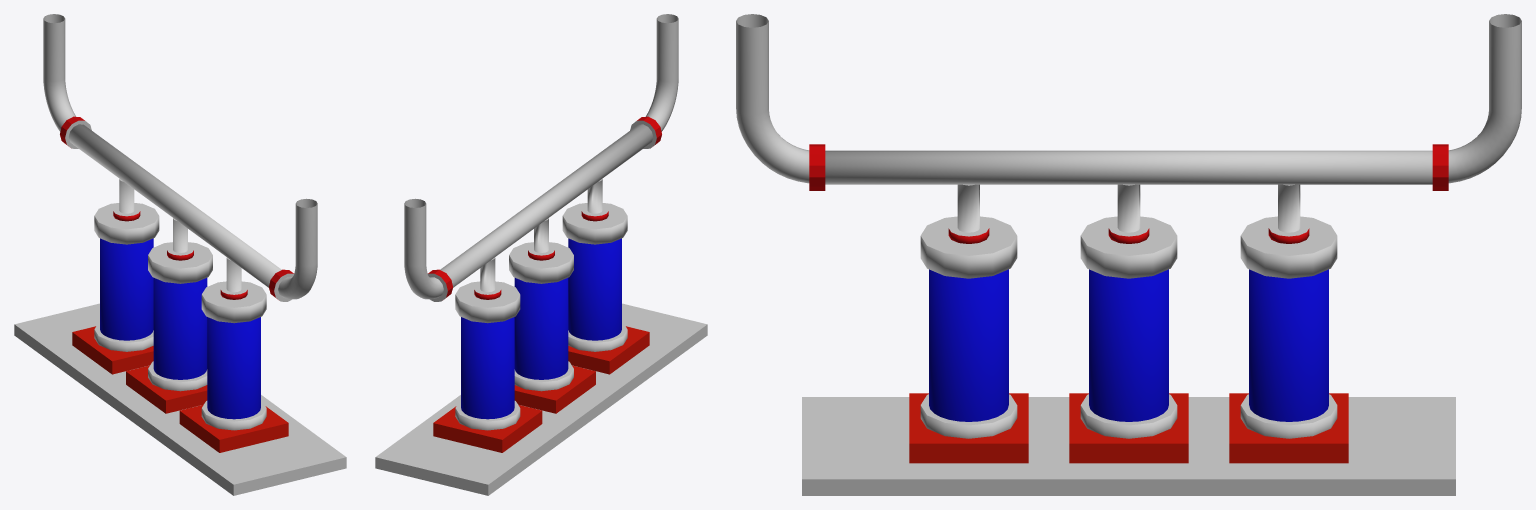
The model's file is TubosRaros.obj.
3 renders of one model, left to right at view 1: azimuth 30°, elevation 25°; view 2: azimuth 150°, elevation 25°; view 3: azimuth 270°, elevation 25°, orthographic. The views are drawn at different scales.
Visible parts, largest first — view 1: Cilindro.002; view 2: Cilindro.002; view 3: Cilindro.002.
Boxes of the visible parts, x1=… form: Cilindro.002: x1=14, y1=14, x2=346, y2=495; Cilindro.002: x1=375, y1=14, x2=707, y2=495; Cilindro.002: x1=736, y1=14, x2=1521, y2=495.
Bounding box in the file's own units: 4.86 × 11.96 × 19.63.
